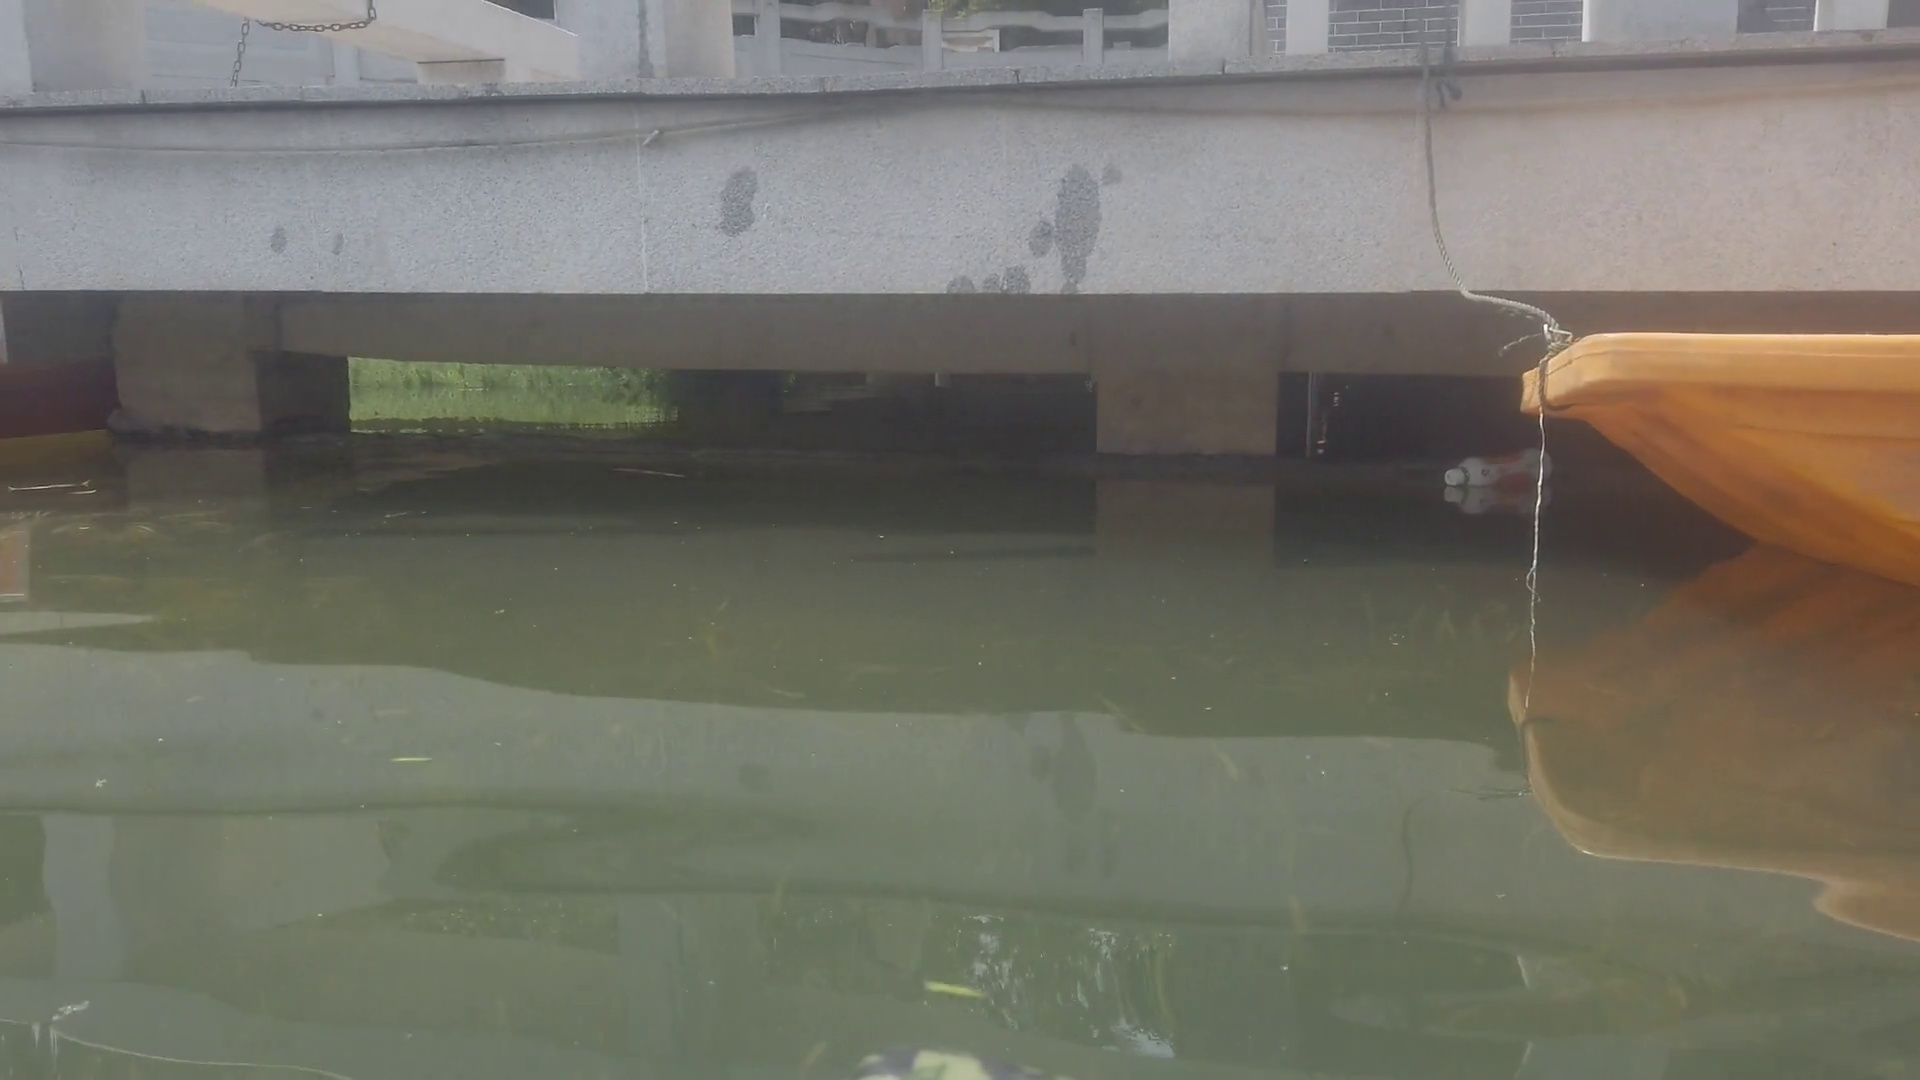bottle: (1441, 444, 1556, 488)
